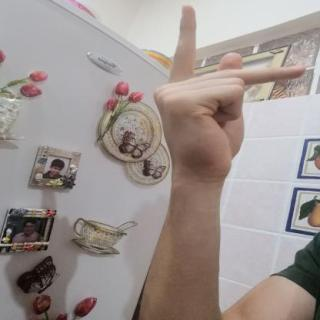DHAA: (143, 2, 315, 186)
